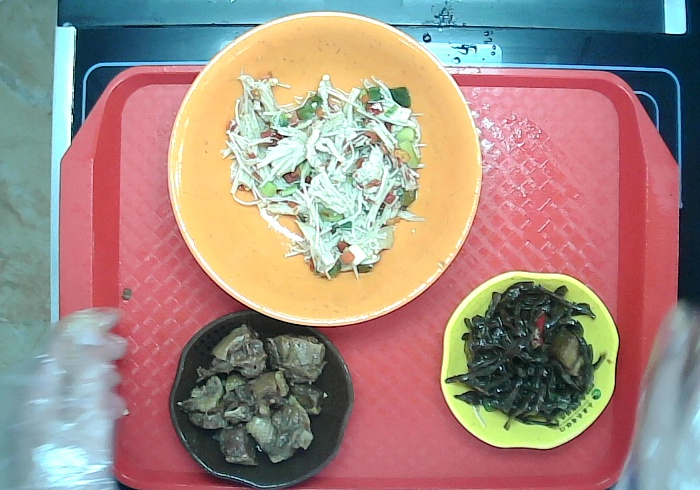YKMZ-Huang_Se_Ao_Bian_Wan: (438, 269, 619, 454)
YKMZ-Ju_Se_Tang_Wan: (167, 9, 481, 327)
YKMZ-Ka_Fei_Ao_Bian_Wan: (169, 308, 354, 490)
